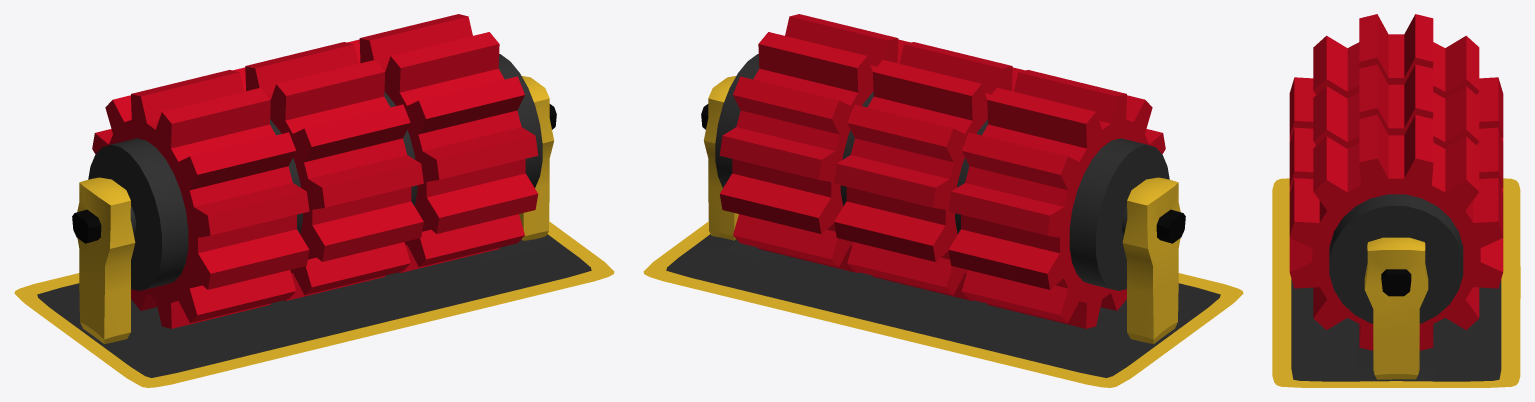
The model's file is Shredder_middle.fbx.
3 renders of one model, left to right at view 1: azimuth 30°, elevation 25°; view 2: azimuth 150°, elevation 25°; view 3: azimuth 270°, elevation 25°, orthographic. The views are drawn at different scales.
Visible parts, largest first — view 1: Gear.001, Plane, Gear; view 2: Gear.001, Plane, Gear; view 3: Gear.001, Plane, Gear.
Boxes of the visible parts, bbox=[...] form: Gear.001: bbox=[88, 14, 542, 328]; Plane: bbox=[14, 221, 614, 387]; Gear: bbox=[72, 76, 556, 344]; Gear.001: bbox=[715, 14, 1169, 328]; Plane: bbox=[643, 221, 1243, 387]; Gear: bbox=[701, 76, 1185, 344]; Gear.001: bbox=[1289, 14, 1503, 350]; Plane: bbox=[1272, 178, 1520, 387]; Gear: bbox=[1364, 237, 1428, 379].
Size of the model in its own units: 539 by 241 by 269.
